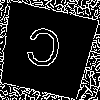C: (21, 25, 64, 78)
